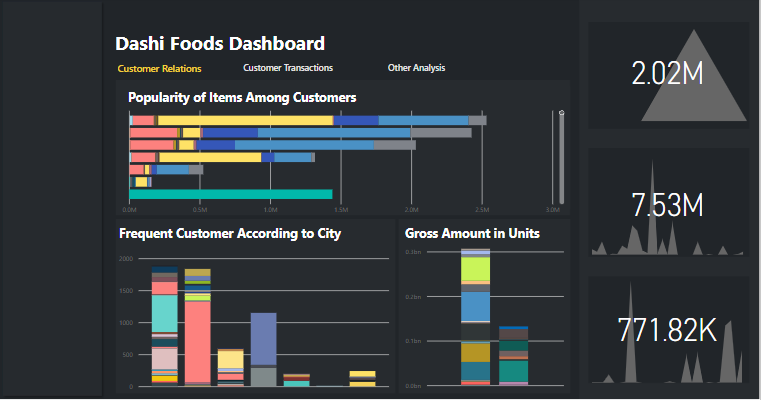

What the dashboard file says about the page in this screenshot:
{"tool":"powerbi","page":{"name":"Customer Relations","canvas":[1280,720],"ordinal":0},"visuals":[{"type":"textbox","box":[191.1,66.1,590.7,57.5],"z":0},{"type":"pageNavigator","box":[168.1,110.7,639.5,50.3],"z":1000},{"type":"barChart","fields":{"Y":["Sum(Sheet2.Quantity)"],"Series":["Sheet2.Customer Title"],"Category":["Sheet2.Item Title"]},"box":[202.6,195.4,753.1,198.3],"z":2000},{"type":"textbox","box":[214.1,163.8,517.4,46],"z":3000},{"type":"columnChart","fields":{"Y":["Sum(Sheet2.Gross Amount)"],"Series":["Sheet2.Item Title"],"Category":["Sheet2.Unit Title"]},"box":[678.3,393.8,277.4,290.3],"z":4000},{"type":"kpi","fields":{"Indicator":["Sum(Sheet5.Gross Amount)"],"TrendLine":["Sheet5.Currency Title"]},"box":[985.9,66.1,277.4,165.3],"z":5000},{"type":"kpi","fields":{"Indicator":["Sum(Sheet5.Gross Amount)"],"TrendLine":["Sheet5.Category Title"]},"box":[993.1,284.6,264.4,171],"z":6000},{"type":"kpi","fields":{"Indicator":["Sum(Sheet5.Quantity)"],"TrendLine":["Sheet5.Class Title"]},"box":[993.1,488.6,261.6,181.1],"z":7000},{"type":"columnChart","fields":{"Category":["Sheet6.City"],"Y":["Sum(Sheet6.qty)"],"Series":["Sheet6.Customer"]},"box":[198.3,441.2,464.2,242.9],"z":8000},{"type":"textbox","box":[198.3,393.8,399.5,44.6],"z":9000},{"type":"textbox","box":[678.3,393.8,270.2,54.6],"z":10000}]}

Visuals, with their boxes on the page's 1280x720 design canvas (x1, y1, x2, y2). These are canvas units, not pixel positions in the 761x400 screenshot, which may show the page scaled, cropped or inside an application window:
textbox: select_region(191, 66, 782, 124)
pageNavigator: select_region(168, 111, 808, 161)
barChart - Sum(Sheet2.Quantity) x Sheet2.Customer Title: select_region(203, 195, 956, 394)
textbox: select_region(214, 164, 732, 210)
columnChart - Sum(Sheet2.Gross Amount) x Sheet2.Item Title: select_region(678, 394, 956, 684)
kpi - Sum(Sheet5.Gross Amount) x Sheet5.Currency Title: select_region(986, 66, 1263, 231)
kpi - Sum(Sheet5.Gross Amount) x Sheet5.Category Title: select_region(993, 285, 1258, 456)
kpi - Sum(Sheet5.Quantity) x Sheet5.Class Title: select_region(993, 489, 1255, 670)
columnChart - Sheet6.City x Sum(Sheet6.qty): select_region(198, 441, 662, 684)
textbox: select_region(198, 394, 598, 438)
textbox: select_region(678, 394, 948, 448)
